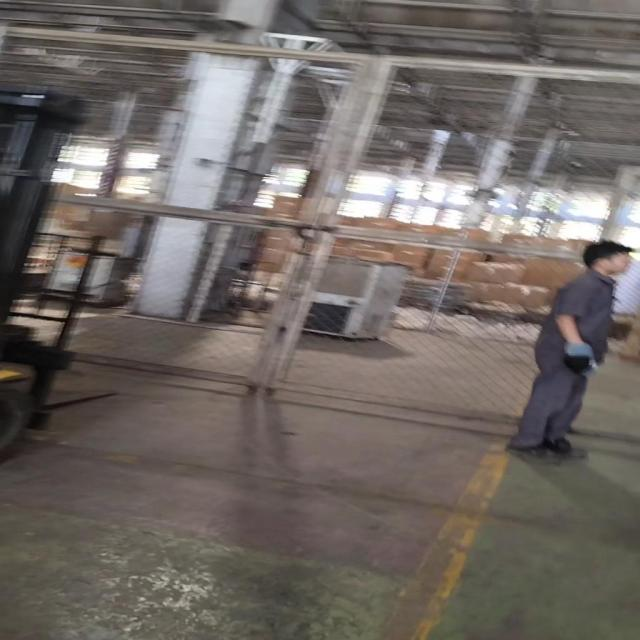Gloves-Detection: (554, 337, 608, 379)
